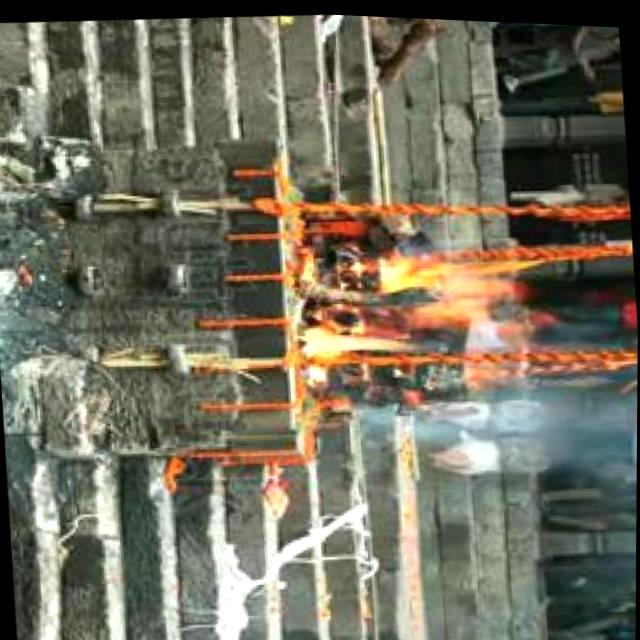fire: (295, 236, 537, 372)
